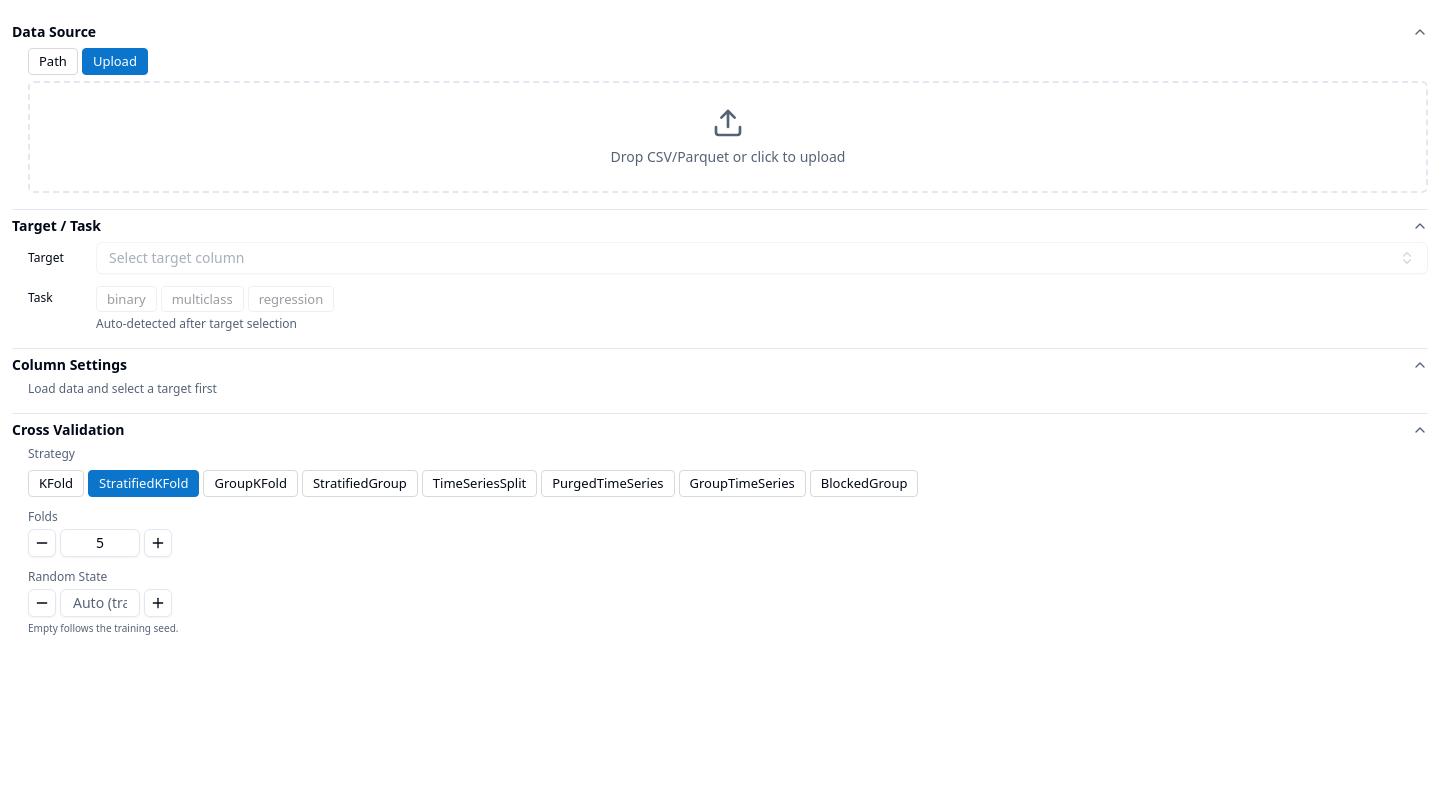
it: DataPanel › shows preview table after data is loaded
This screenshot has width=1440, height=810.
Step 1. Click the radio button "Path" → (53, 61), box 28,48 -> 78,75
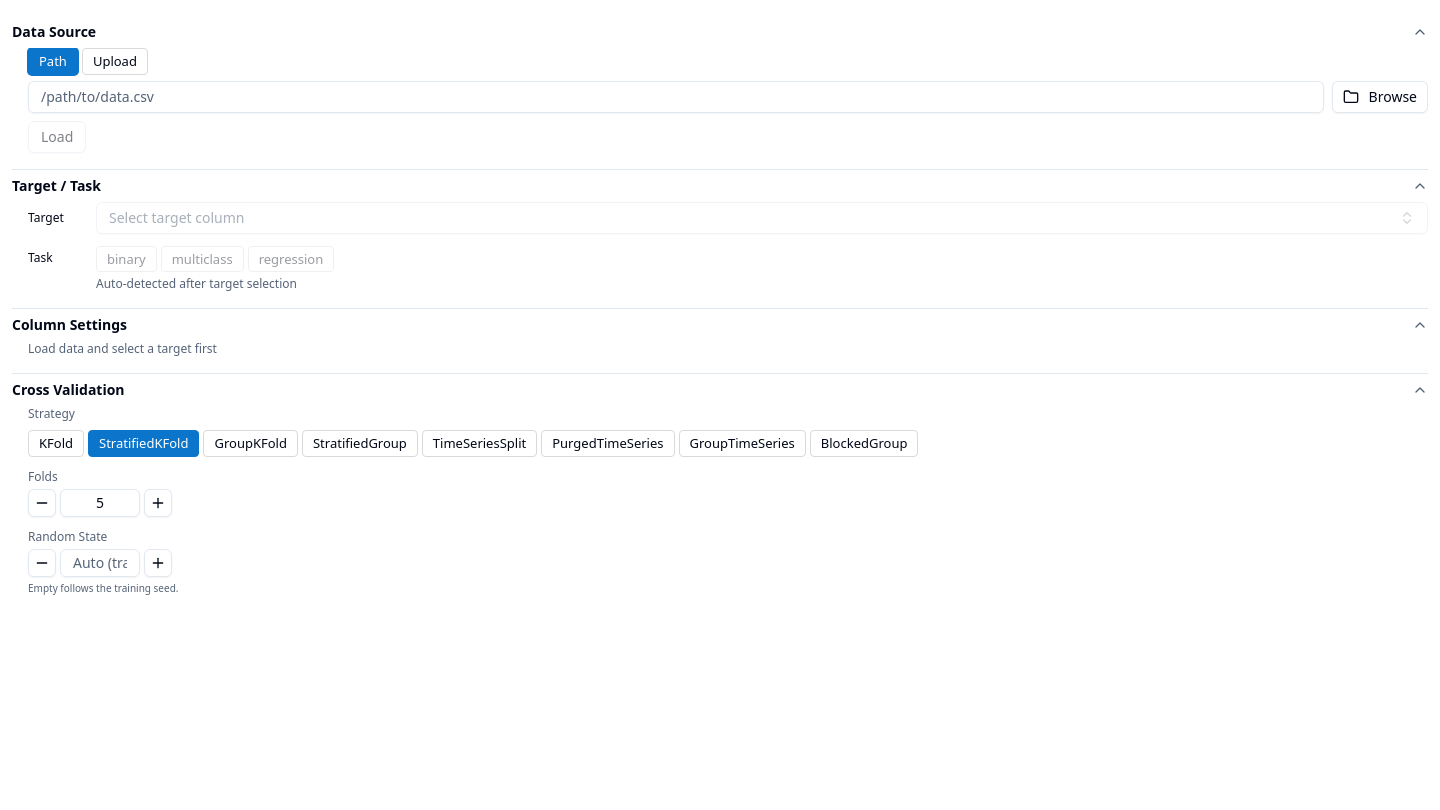
Step 2. Type "/data.csv" into the field with placeholder "/path/to/data.csv" → (676, 97), box 28,81 -> 1324,113
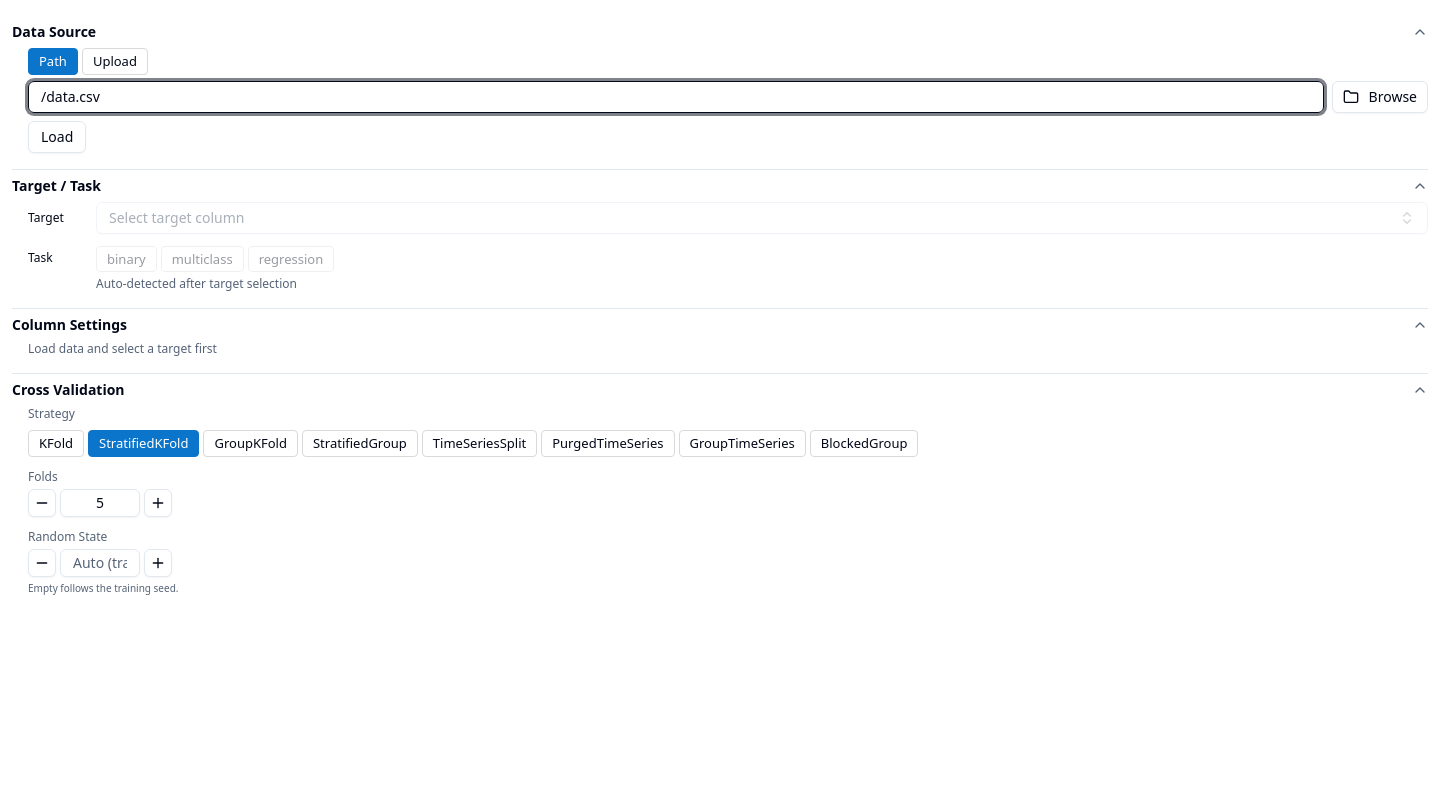
Step 3. Click the button "Load" → (57, 137), box 28,121 -> 86,153
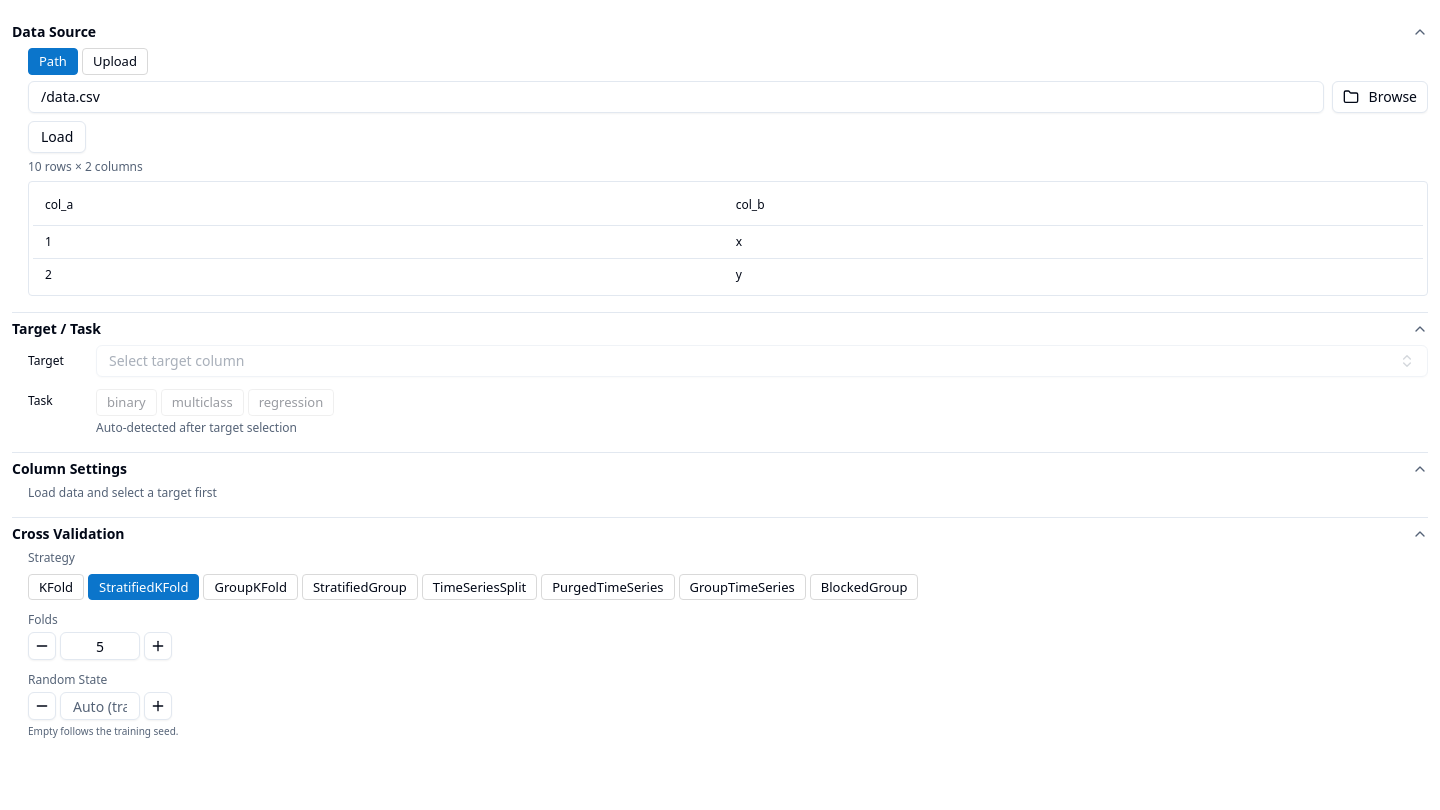
Expected: the column heading "col_a" is shown, 33,186 -> 724,226
Expected: the column heading "col_b" is shown, 724,186 -> 1423,226
Expected: the text "x" is shown, 724,226 -> 1423,259
